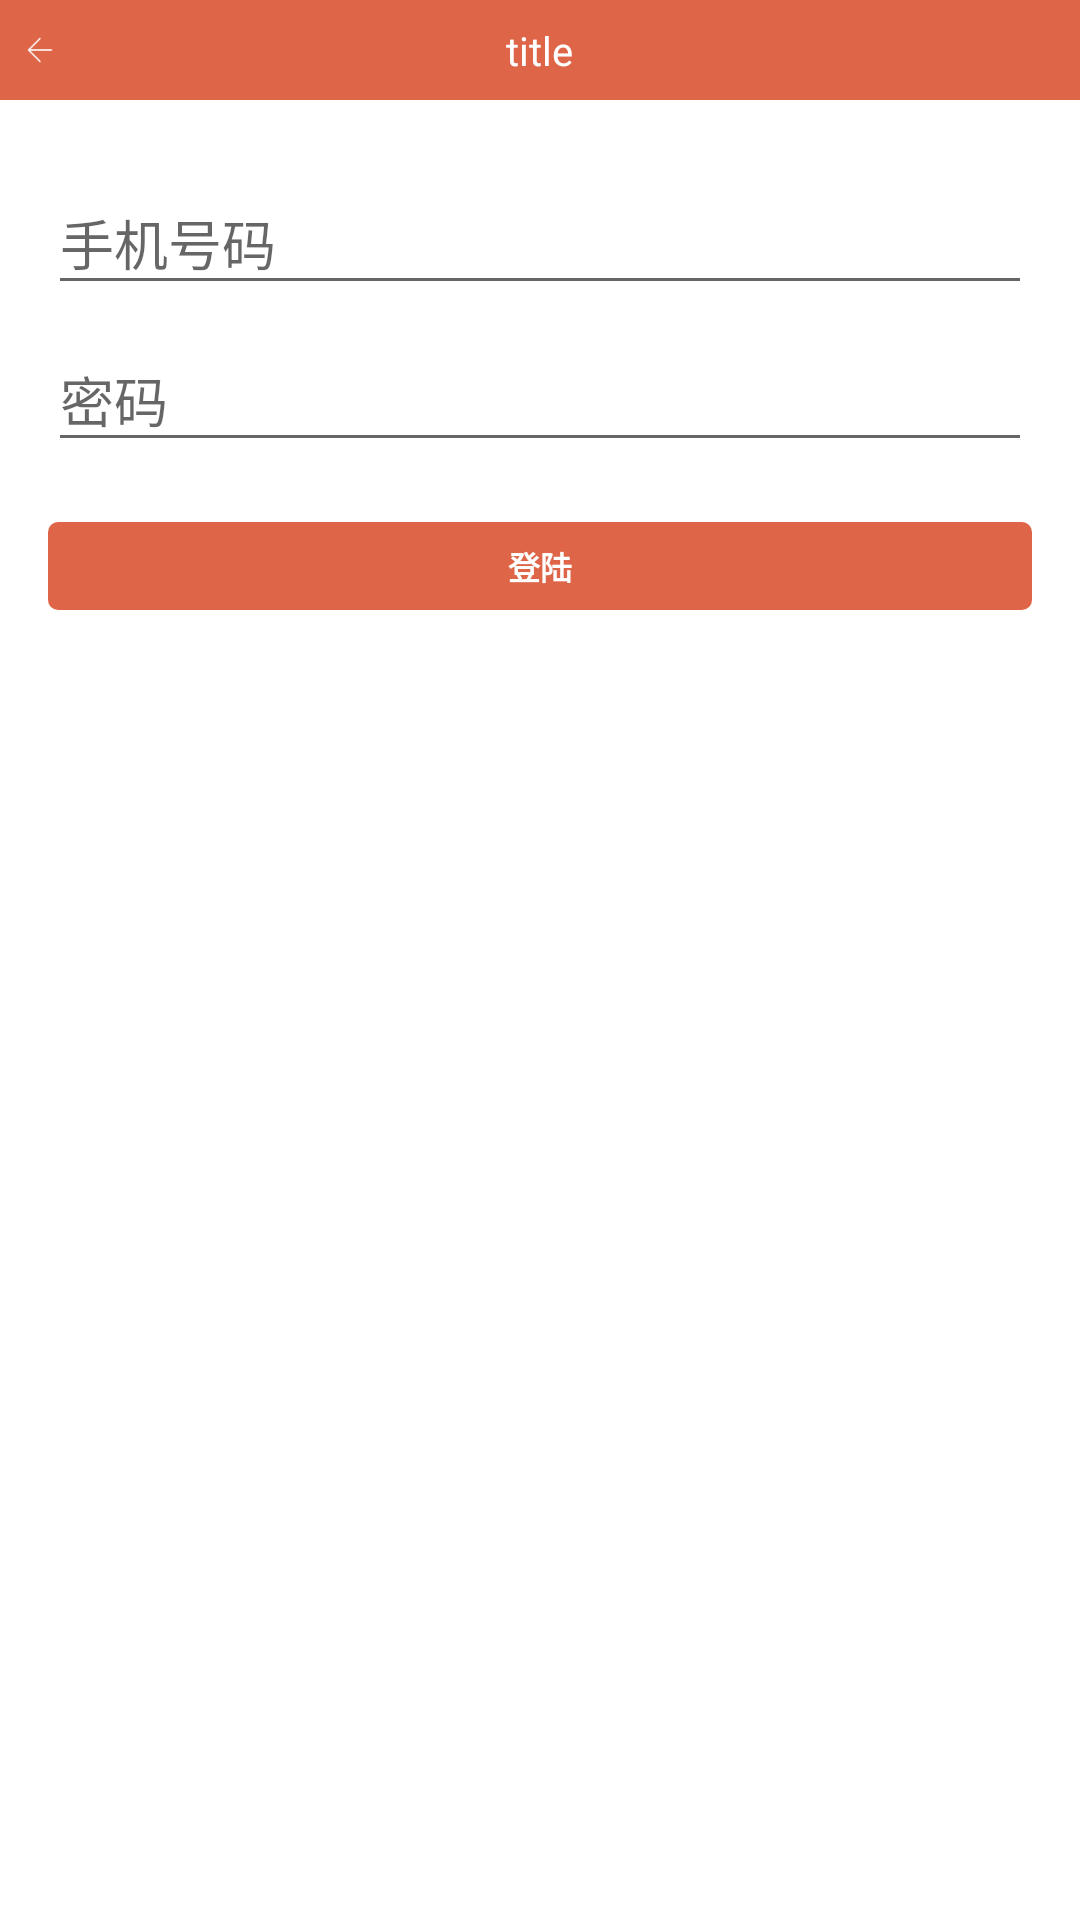

Icon bounding boxes for this 1080x1920 phone screenshot, format (left=x1, top=y1, right=x2, bottom=y2):
back: (left=27, top=37, right=52, bottom=63)
